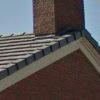Chimney: (25, 4, 90, 46)
